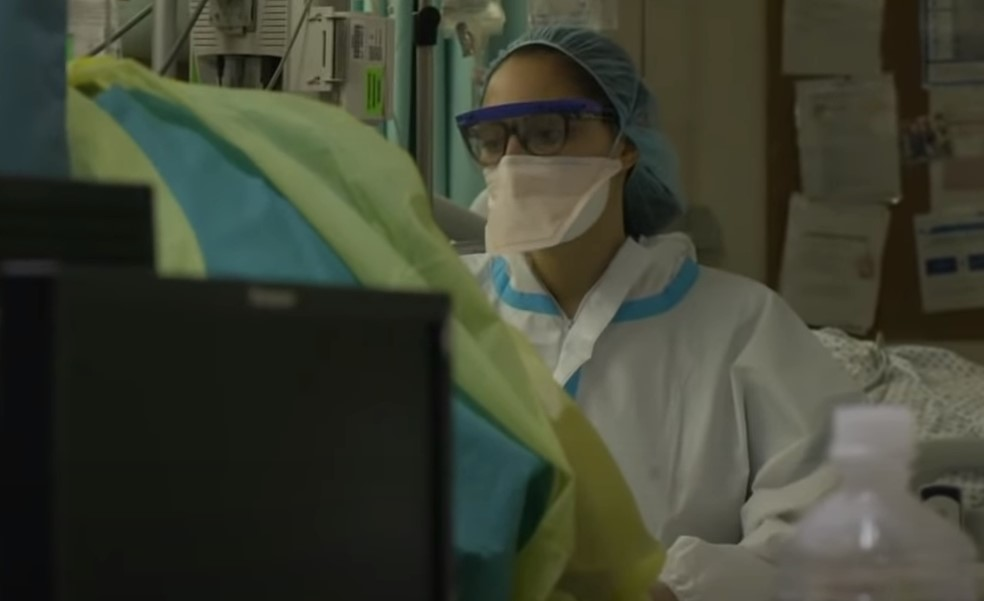face_with_mask: (453, 24, 674, 258)
